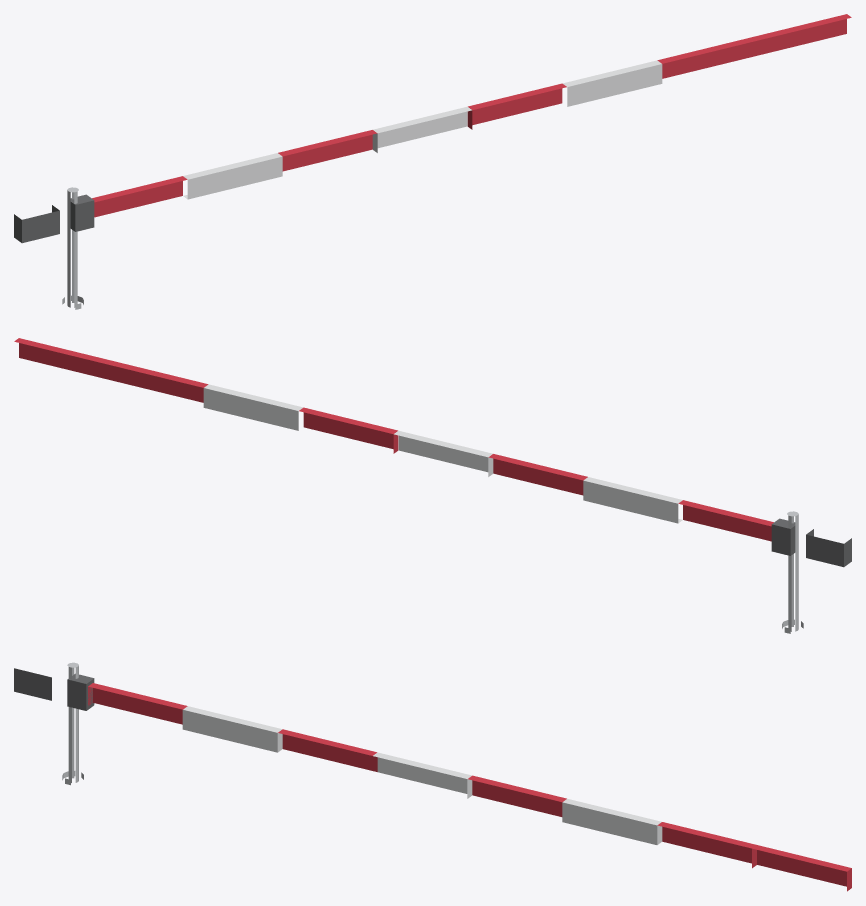
File: rail_barrier.glb
3 views of the same model, one above another, from view 1: azimuth 30°, elevation 25°; view 2: azimuth 150°, elevation 25°; view 3: azimuth 330°, elevation 25° (orthographic).
Parts seen in each view (by area): view 1: rail_barrier; view 2: rail_barrier; view 3: rail_barrier.
Boxes of the visible parts, box(x1,y1,x2,y2) form: rail_barrier: box(14, 14, 851, 309); rail_barrier: box(14, 338, 851, 633); rail_barrier: box(14, 662, 851, 891).
Size of the model in its own units: 9.64 by 1.28 by 0.2092.
